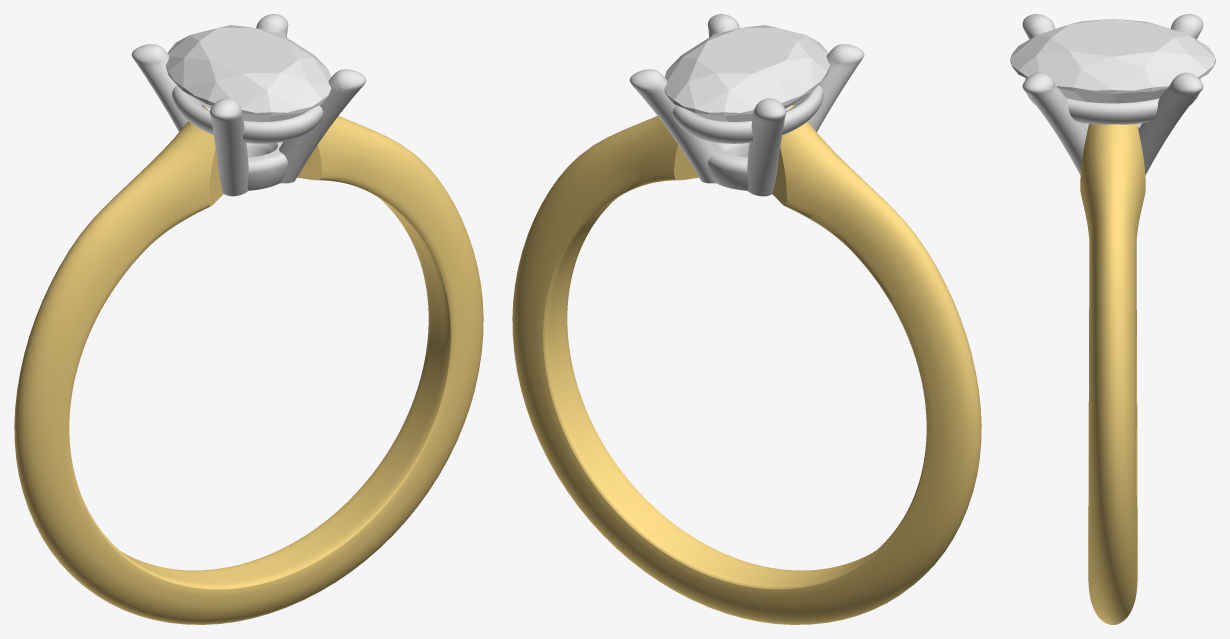
Rendered from Matt Nelson fancy band.glb.
The picture shows the model from 3 angles, left to right: view 1: azimuth 30°, elevation 25°; view 2: azimuth 150°, elevation 25°; view 3: azimuth 270°, elevation 25°; orthographic projection.
Parts seen in each view (by area): view 1: fancy band YG for 3d model, Nelson PT for 3d model, Nelson dia for 3d model; view 2: fancy band YG for 3d model, Nelson PT for 3d model, Nelson dia for 3d model; view 3: fancy band YG for 3d model, Nelson dia for 3d model, Nelson PT for 3d model.
Boxes of the visible parts, <box> form: fancy band YG for 3d model: <box>14,105,483,624</box>; Nelson PT for 3d model: <box>131,14,366,196</box>; Nelson dia for 3d model: <box>165,25,331,121</box>; fancy band YG for 3d model: <box>512,105,981,624</box>; Nelson PT for 3d model: <box>629,14,864,196</box>; Nelson dia for 3d model: <box>664,25,830,121</box>; fancy band YG for 3d model: <box>1080,123,1145,624</box>; Nelson dia for 3d model: <box>1010,18,1215,103</box>; Nelson PT for 3d model: <box>1022,14,1203,175</box>.
Size of the model in its own units: 19.48 by 22.69 by 7.5.
